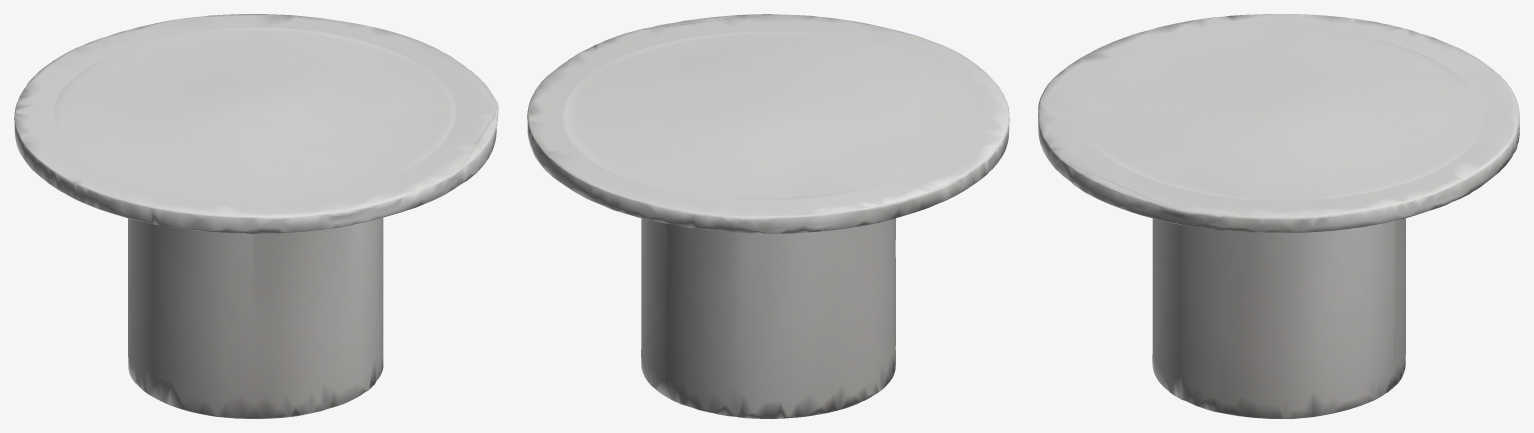
File: Floating_Hat_Table_1106092111_texture.obj
The picture shows the model from 3 angles, left to right: view 1: azimuth 30°, elevation 25°; view 2: azimuth 150°, elevation 25°; view 3: azimuth 270°, elevation 25°; orthographic projection.
Parts seen in each view (by area): view 1: Floating_Hat_Table_1106092111_texture; view 2: Floating_Hat_Table_1106092111_texture; view 3: Floating_Hat_Table_1106092111_texture.
Boxes of the visible parts, bbox=[...] form: Floating_Hat_Table_1106092111_texture: bbox=[14, 14, 498, 418]; Floating_Hat_Table_1106092111_texture: bbox=[527, 14, 1009, 418]; Floating_Hat_Table_1106092111_texture: bbox=[1038, 14, 1519, 418].
Bounding box in the file's own units: 2 × 1.18 × 2.
1 material, 1 textured.
